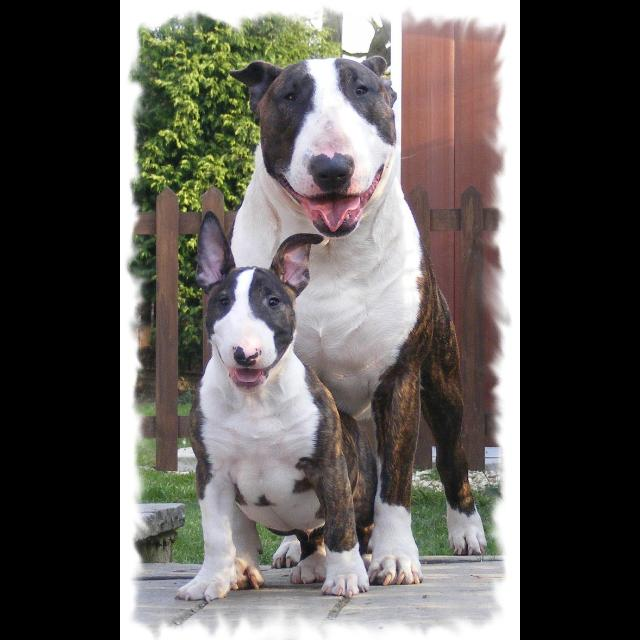bullterrier: (227, 56, 489, 589), (176, 211, 376, 603)
